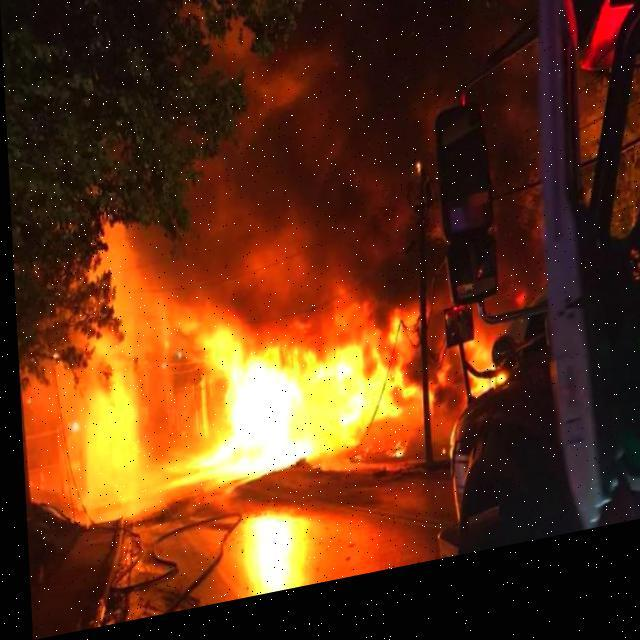Fire: (130, 292, 416, 536)
